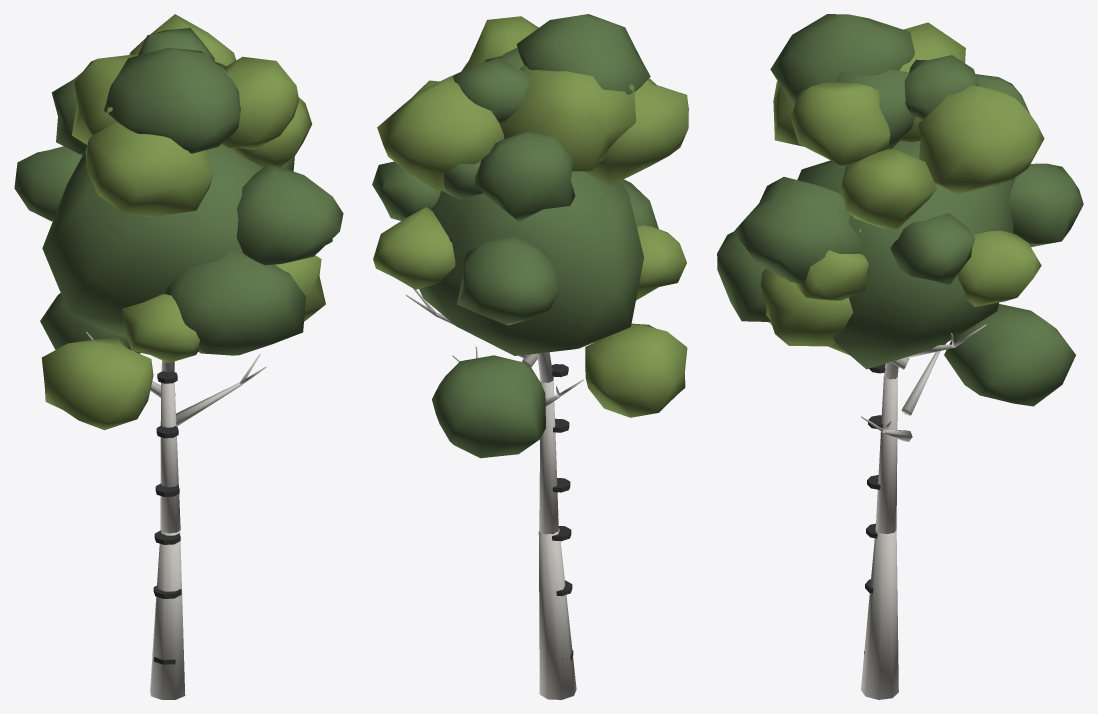
Rendered from node_tree_birch_0.glb.
3 views of the same model, side by side, from view 1: azimuth 30°, elevation 25°; view 2: azimuth 150°, elevation 25°; view 3: azimuth 270°, elevation 25° (orthographic). The views are drawn at different scales.
Visible parts, largest first — view 1: blob.021, blob.019, blob.005, blob.008, blob.011, blob.002, blob.014, cyl, blob.020, blob.001, blob, cyl.001 (+7 smaller); view 2: blob.021, blob.015, blob.012, blob, blob.002, blob.001, blob.019, blob.003, blob.008, cyl, blob.004, blob.007 (+6 smaller); view 3: blob.021, blob.012, blob.015, blob.011, blob.019, blob.014, blob.006, cyl, blob.001, blob.004, blob.016, blob.009 (+9 smaller).
Boxes of the visible parts, x1=… form: blob.021: x1=42, y1=144, x2=262, y2=337; blob.019: x1=104, y1=48, x2=240, y2=153; blob.005: x1=165, y1=250, x2=305, y2=355; blob.008: x1=85, y1=122, x2=213, y2=216; blob.011: x1=236, y1=163, x2=343, y2=265; blob.002: x1=42, y1=338, x2=153, y2=430; blob.014: x1=222, y1=56, x2=299, y2=149; cyl: x1=150, y1=530, x2=185, y2=699; blob.020: x1=122, y1=294, x2=199, y2=362; blob.001: x1=14, y1=146, x2=82, y2=221; blob: x1=71, y1=54, x2=138, y2=144; cyl.001: x1=160, y1=382, x2=180, y2=533; blob.021: x1=419, y1=171, x2=643, y2=355; blob.015: x1=432, y1=355, x2=545, y2=458; blob.012: x1=377, y1=75, x2=503, y2=190; blob: x1=500, y1=65, x2=636, y2=171; blob.002: x1=585, y1=323, x2=687, y2=417; blob.001: x1=457, y1=237, x2=561, y2=325; blob.019: x1=516, y1=14, x2=650, y2=94; blob.003: x1=474, y1=131, x2=575, y2=221; blob.008: x1=584, y1=78, x2=688, y2=185; cyl: x1=538, y1=528, x2=576, y2=699; blob.004: x1=373, y1=207, x2=455, y2=289; blob.007: x1=453, y1=58, x2=530, y2=123; blob.021: x1=797, y1=141, x2=1015, y2=369; blob.012: x1=918, y1=85, x2=1044, y2=194; blob.015: x1=944, y1=304, x2=1075, y2=406; blob.011: x1=733, y1=177, x2=862, y2=283; blob.019: x1=770, y1=14, x2=914, y2=105; blob.014: x1=791, y1=82, x2=890, y2=165; blob.006: x1=841, y1=148, x2=936, y2=228; cyl: x1=861, y1=530, x2=898, y2=699; blob.001: x1=1008, y1=163, x2=1083, y2=247; blob.004: x1=958, y1=229, x2=1041, y2=306; blob.016: x1=760, y1=268, x2=853, y2=346; blob.009: x1=890, y1=213, x2=975, y2=284.
Bounding box in the file's own units: 3.83 × 8.97 × 4.42.
